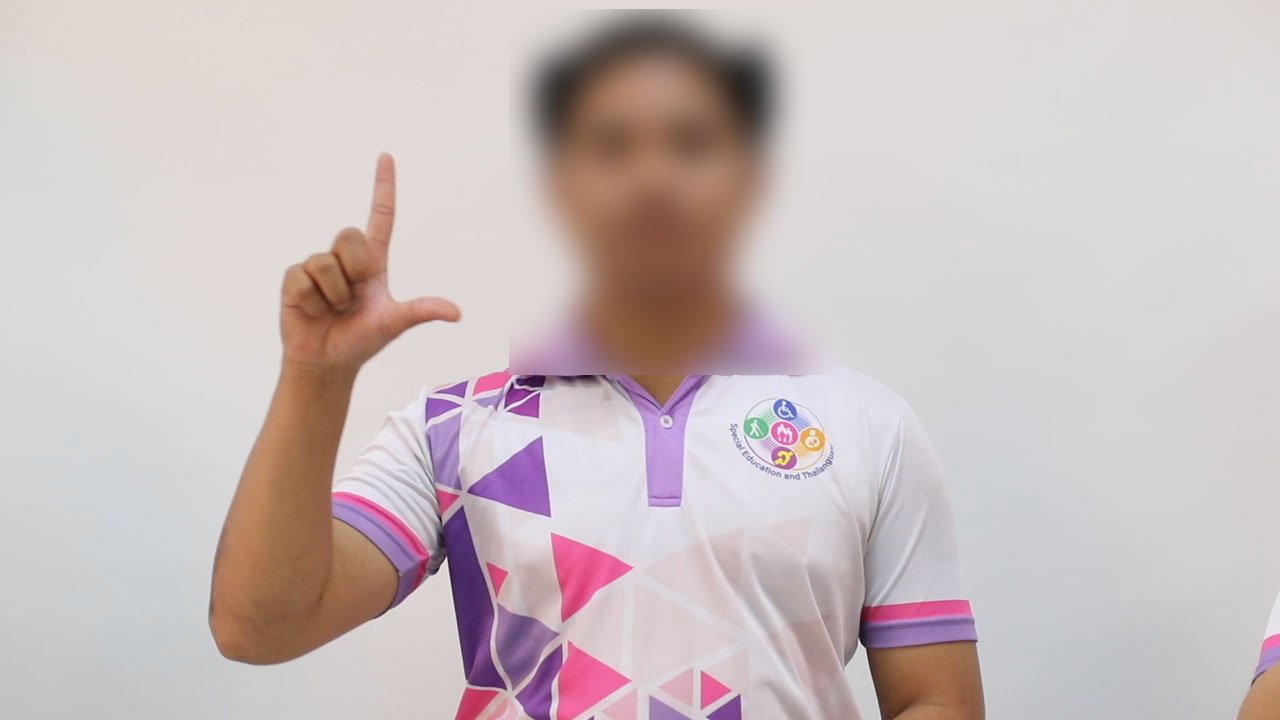lor: (264, 122, 488, 424)
